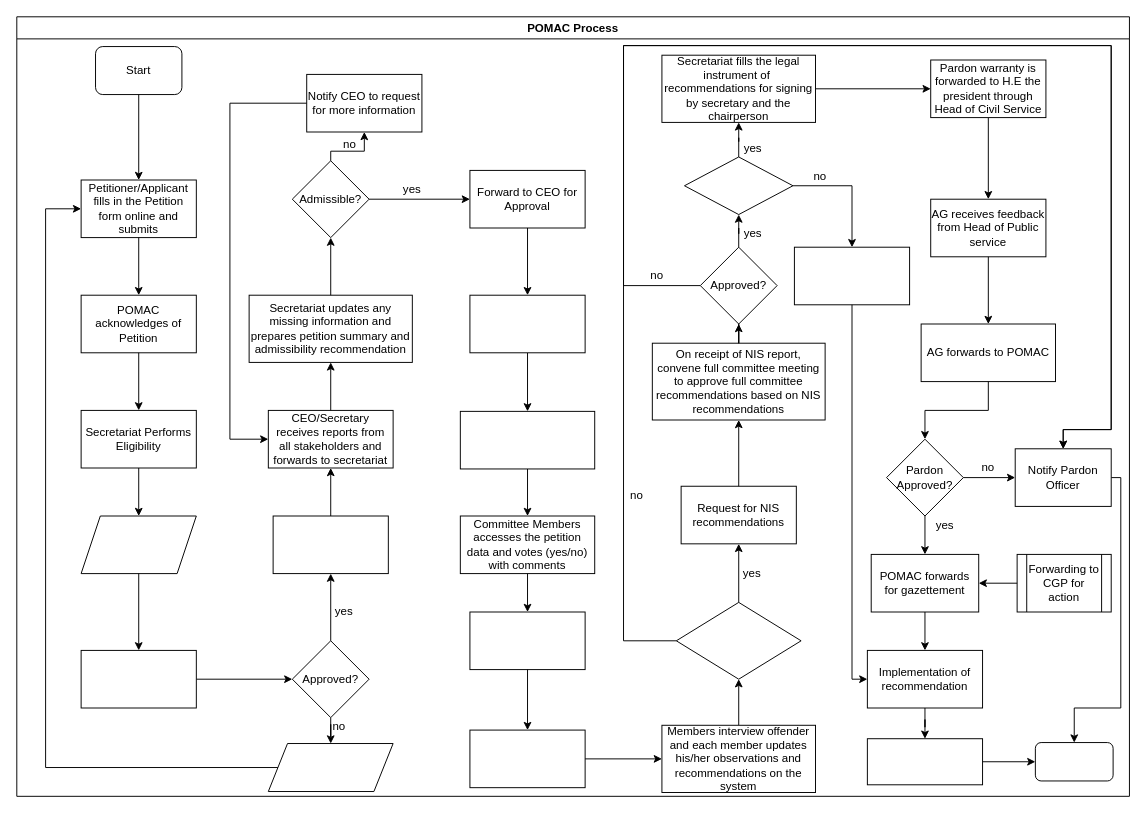
Image size: 1146x813. Some labels were removed from this diagram. Each missing label, with the centre of its shape:
CEO approves and forwards to secretary petitions sub-committee: the point at 527,323
End: the point at 1073,761
Forward to Judiciary: the point at 851,275
Forward to secretary for approval: the point at 138,678
Generate notifications for stakeholders to request for information: the point at 330,544
is pardon presidential?: the point at 738,185
Monitoring and evaluation after release: the point at 924,761
Petition number: the point at 138,544
Plan for Interview with offender: the point at 527,758
Recommendations: the point at 330,767
recommended for pardon?: the point at 738,640
Secretary Schedules meeting and generates reports for each member's dashboard: the point at 527,439
System generate outcome report based on majority votes.Tie is a pass.: the point at 527,640
